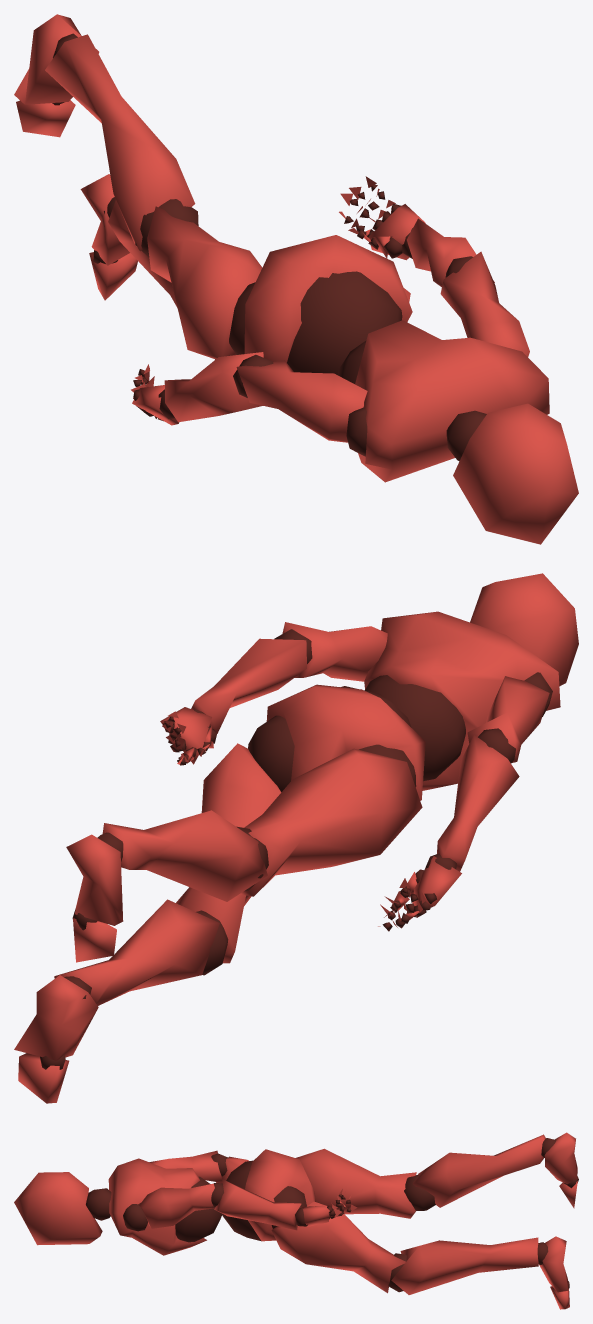
The picture shows the model from 3 angles, top to bottom: view 1: azimuth 30°, elevation 25°; view 2: azimuth 150°, elevation 25°; view 3: azimuth 270°, elevation 25°; orthographic projection. The views are drawn at different scales.
Visible parts, largest first — view 1: Beta_Surface, Beta_Joints; view 2: Beta_Surface, Beta_Joints; view 3: Beta_Surface, Beta_Joints.
Part boxes in pixels (x1=…): Beta_Surface: x1=14, y1=14, x2=578, y2=544; Beta_Joints: x1=52, y1=33, x2=486, y2=461; Beta_Surface: x1=14, y1=573, x2=578, y2=1103; Beta_Joints: x1=40, y1=629, x2=552, y2=1069; Beta_Surface: x1=14, y1=1132, x2=577, y2=1309; Beta_Joints: x1=86, y1=1138, x2=578, y2=1292.
Size of the model in its own units: 0.5988 by 0.5786 by 1.79.
